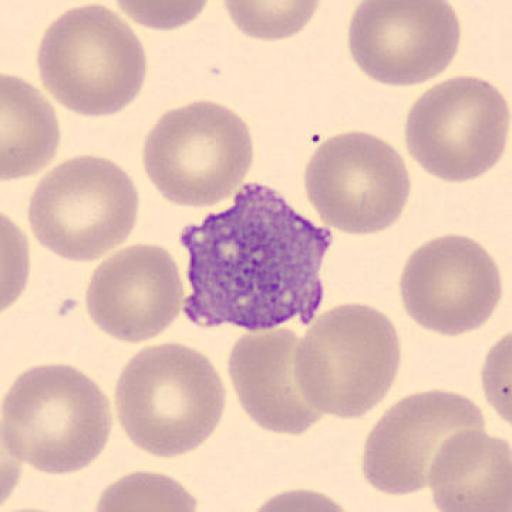Platelet: (176, 179, 334, 332)
RBC: (361, 388, 494, 498), (112, 340, 228, 460), (34, 1, 148, 119), (0, 360, 114, 476), (292, 301, 402, 421), (26, 152, 140, 264), (140, 99, 255, 210), (302, 129, 413, 238), (403, 73, 510, 185), (398, 232, 504, 338), (228, 326, 328, 436), (84, 241, 186, 346), (346, 0, 462, 89), (360, 389, 454, 497), (405, 387, 487, 496), (426, 429, 512, 512), (2, 73, 62, 182), (91, 468, 201, 512), (222, 0, 323, 42), (479, 330, 512, 430), (110, 0, 212, 32), (2, 213, 32, 315), (246, 486, 359, 512), (0, 417, 24, 511)
